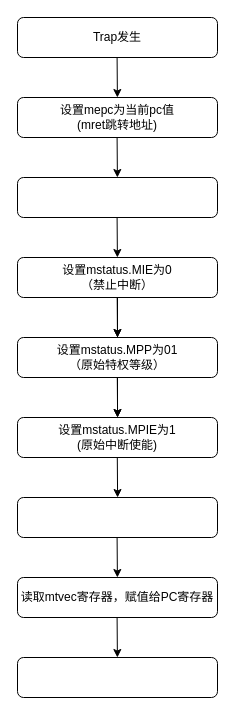
Image size: 235x715. Some labels were removed from this diagram. Here are the shapes that lost their labels. From the top down, the centre of each, then its label:
At pixel 117 197: "设置mcause寄存器 (异常/中断错误码)".
At pixel 117 517: "设置mtval寄存器为0或由软件设置".
At pixel 117 677: "进入Machine mode".
